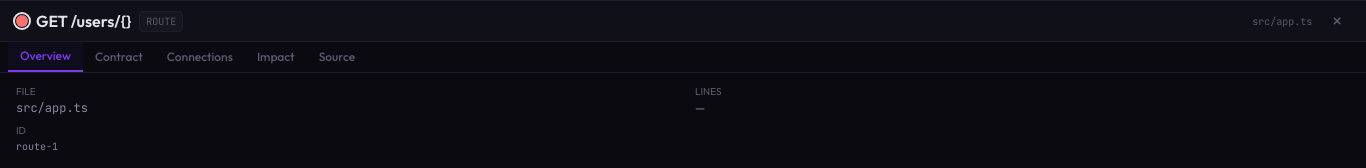
NodeDetail — contract tab › shows an error state when the fetch fails
This screenshot has width=1366, height=168.
Click the button "contract": point(119, 57) left=83, top=42, right=155, bottom=72
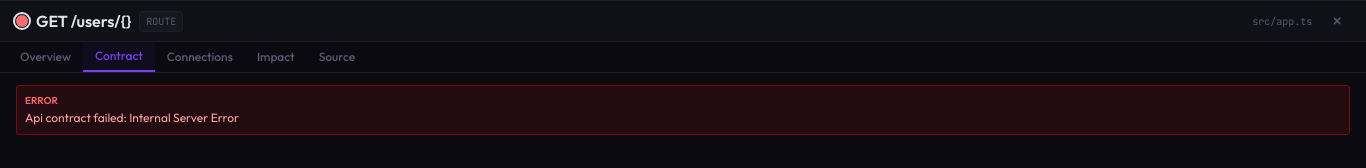
Expected: the text "Api contract failed: Internal Server Error" is shown, left=25, top=110, right=239, bottom=125
